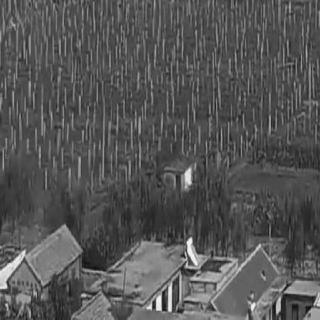other: (221, 253, 271, 314)
